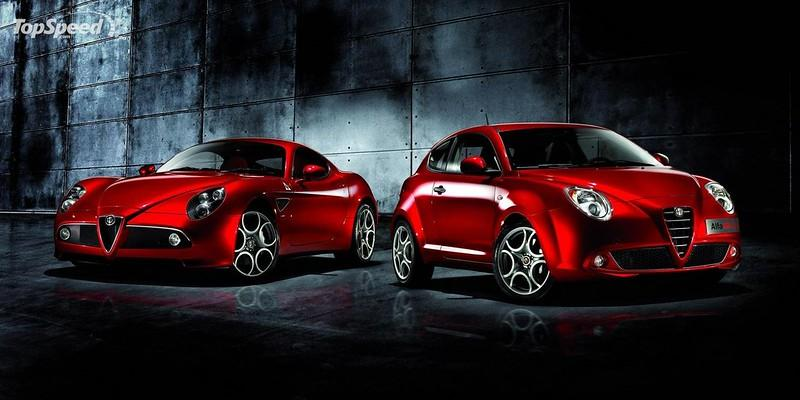windshield: (495, 127, 672, 173), (145, 143, 288, 177)
